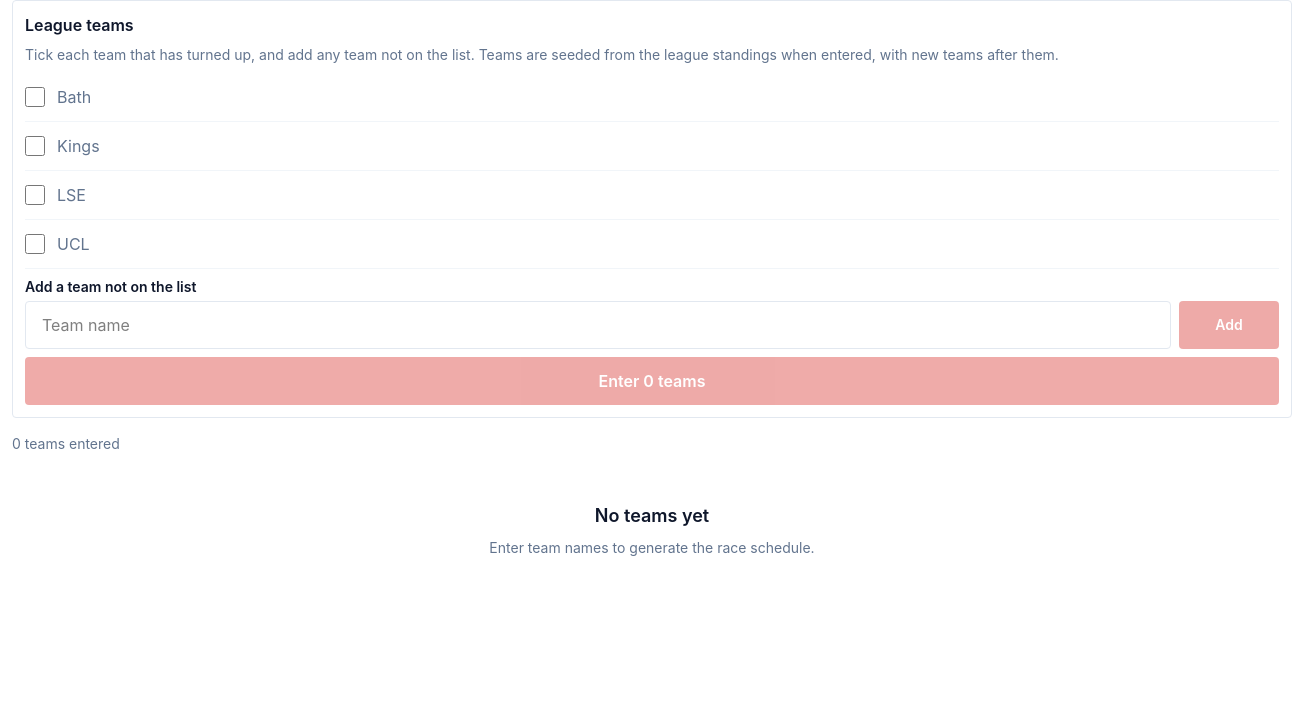
Test: carrying teams over from the league standings › ticks a league team instead of adding a duplicate
Type "  kings " into the field with placeholder "Team name" at coordinates (598, 325), box 25,301 -> 1171,349
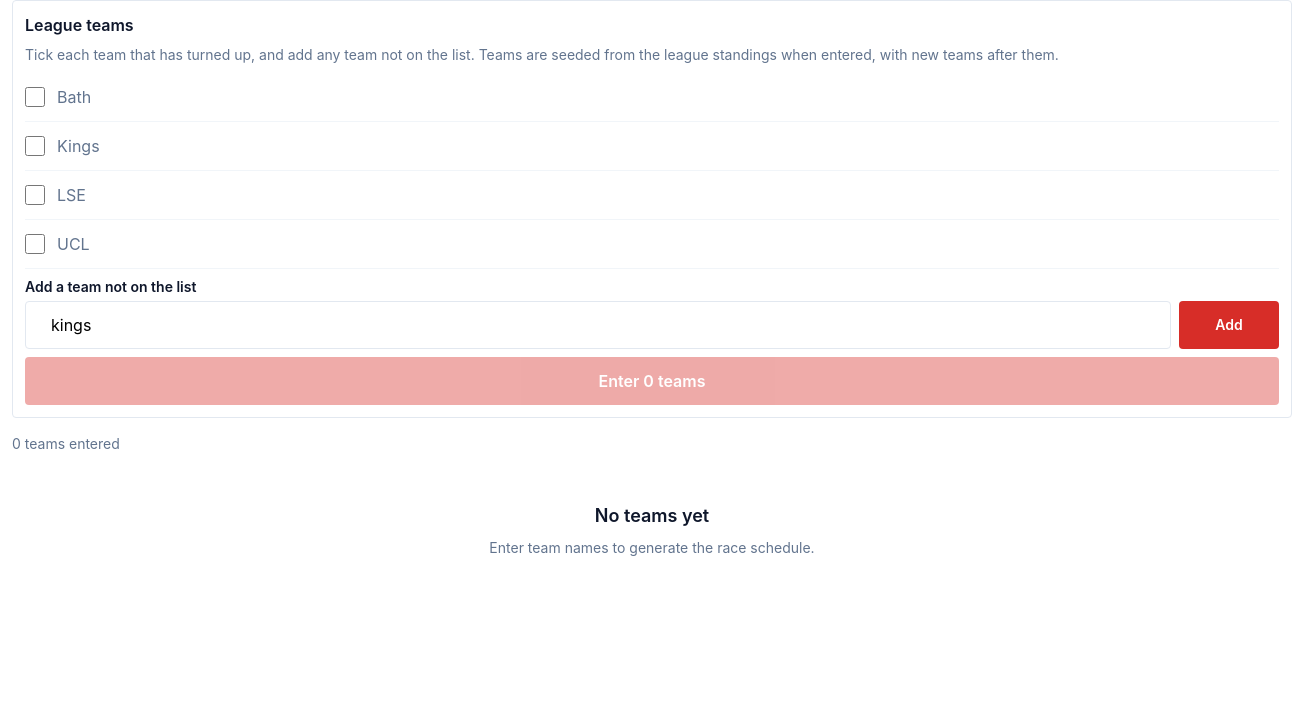
Click the button "Add" at coordinates (1229, 325), box 1179,301 -> 1279,349
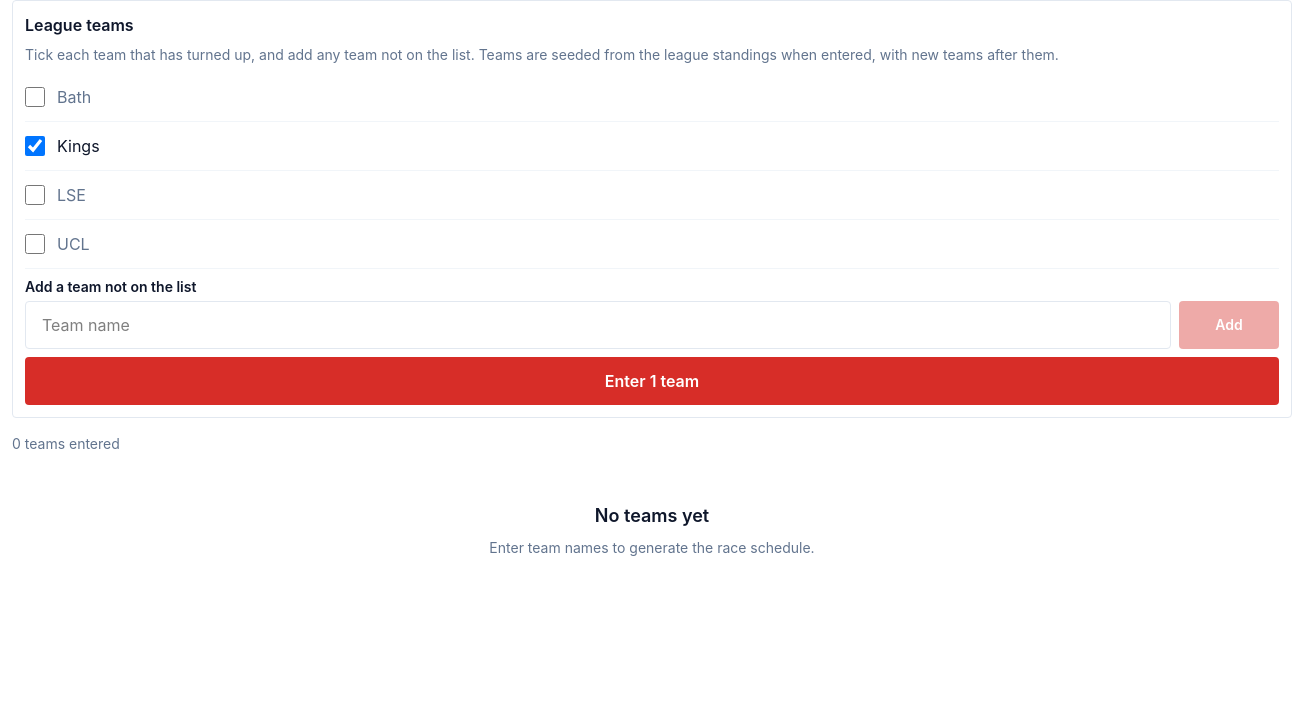
Expected: the number of checkboxes is 4, 25,87 -> 45,107; 25,136 -> 45,156; 25,185 -> 45,205; 25,234 -> 45,254
Now the checkbox labelled "Kings" is checked, box 25,136 -> 45,156
Now the button "Enter 1 team" is shown, box 25,357 -> 1279,405
